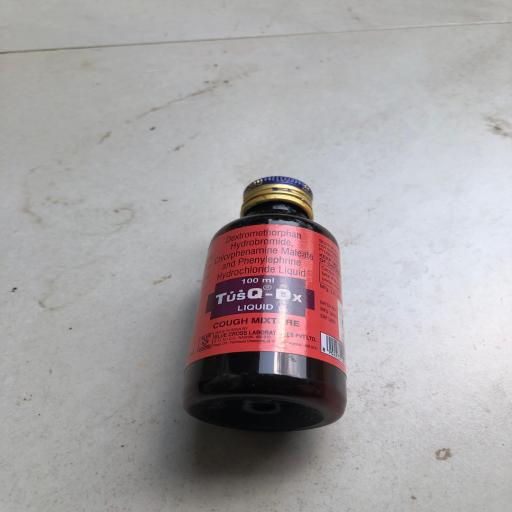waste: (176, 154, 374, 445)
